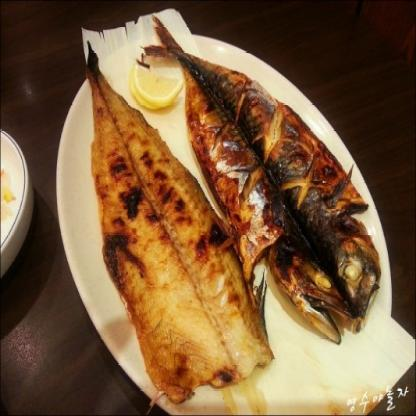Peixe: (69, 37, 400, 402)
